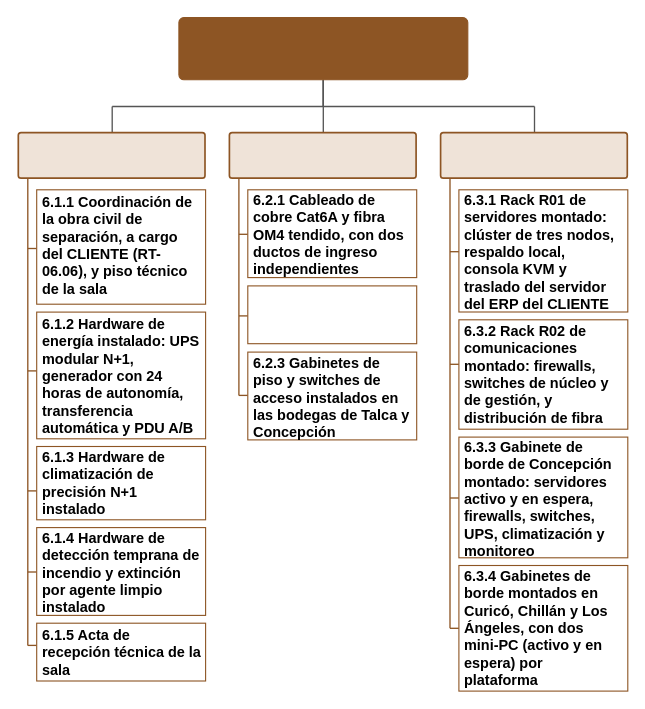
Some shapes in this 645 by 709 pixel diagram are drawn without their labels. Here are the shapes that lost their labels. From the top down, the centre of each, then its label:
At point 323,48: "6. Infraestructura física y sitios".
At point 111,155: "6.1 Adecuación de la sala técnica de Talca".
At point 322,155: "6.2 Cableado estructurado".
At point 533,155: "6.3 Montaje de racks y gabinetes".
At point 332,314: "6.2.2 Certificación de enlaces, etiquetado y planos as-built".
